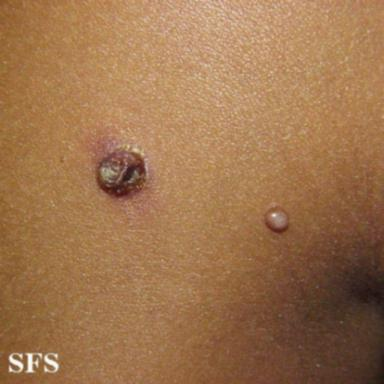Molluscum-Contagiosum: (265, 206, 289, 233)
